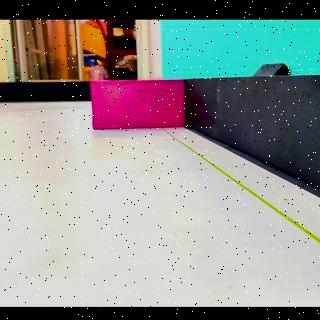xparking: (93, 81, 183, 128)
